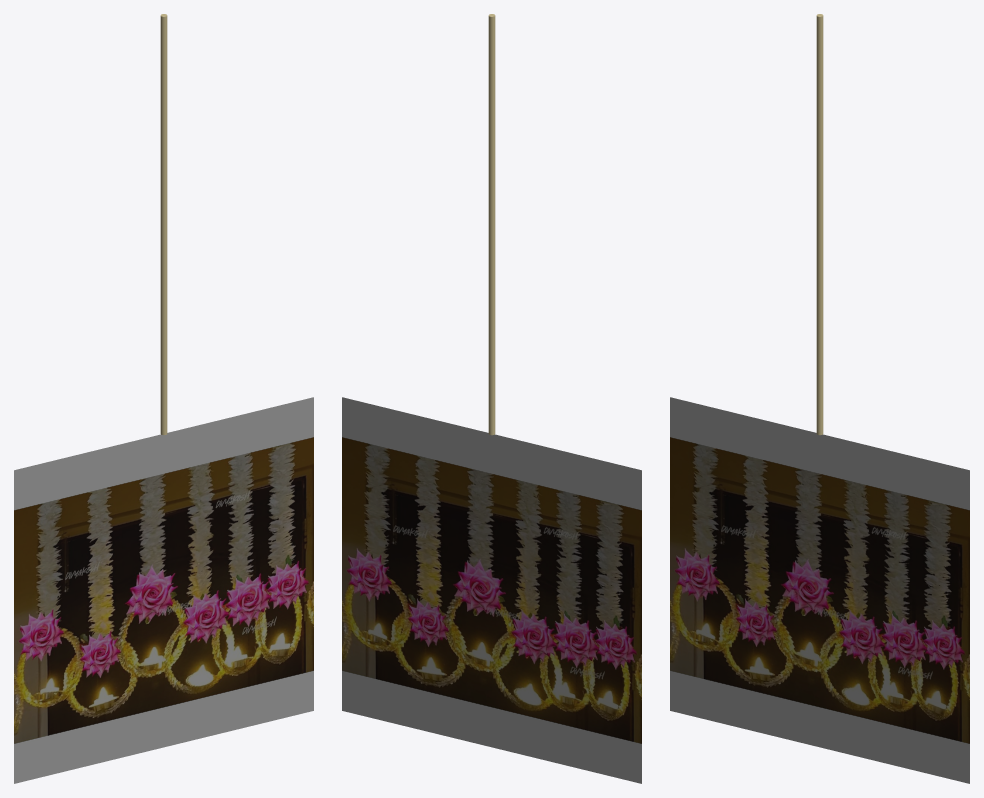
3 views of the same model, side by side, from view 1: azimuth 30°, elevation 25°; view 2: azimuth 150°, elevation 25°; view 3: azimuth 330°, elevation 25° (orthographic).
Parts seen in each view (by area): view 1: photo, string; view 2: photo, string; view 3: photo, string.
Part boxes in pixels (x1=…): photo: x1=14, y1=397, x2=313, y2=783; string: x1=160, y1=14, x2=167, y2=435; photo: x1=342, y1=397, x2=641, y2=783; string: x1=488, y1=14, x2=495, y2=435; photo: x1=670, y1=397, x2=969, y2=783; string: x1=816, y1=14, x2=823, y2=435.
Size of the model in its own units: 0.3 by 0.7 by 0.006.
1 material, 1 textured.
